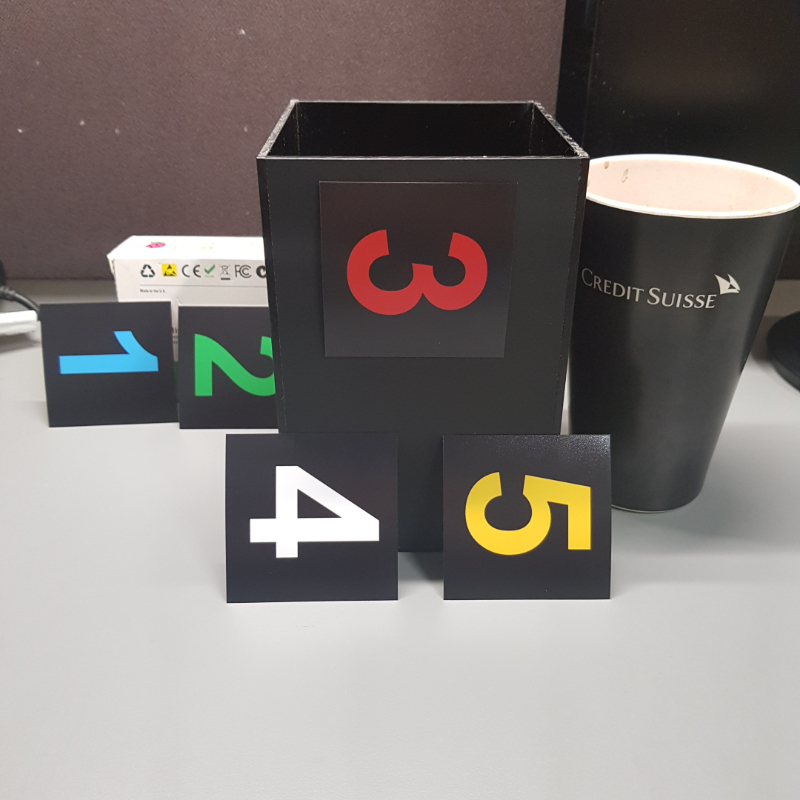Five-10: (450, 440, 606, 592)
One-6: (48, 309, 166, 419)
Three-8: (233, 440, 391, 595)
Two-7: (331, 189, 500, 352)
